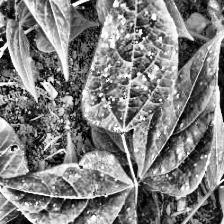Bean Rust: (129, 28, 224, 200), (84, 0, 178, 130), (0, 145, 139, 224), (5, 0, 80, 69)
